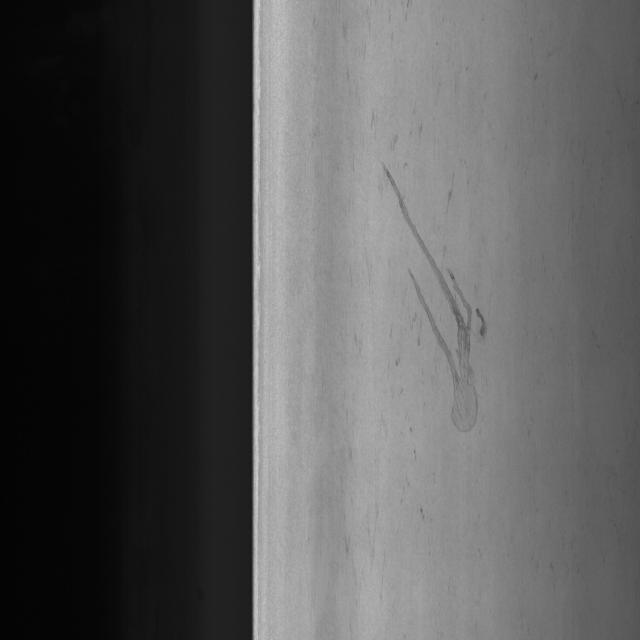water_spot: (378, 156, 506, 447)
